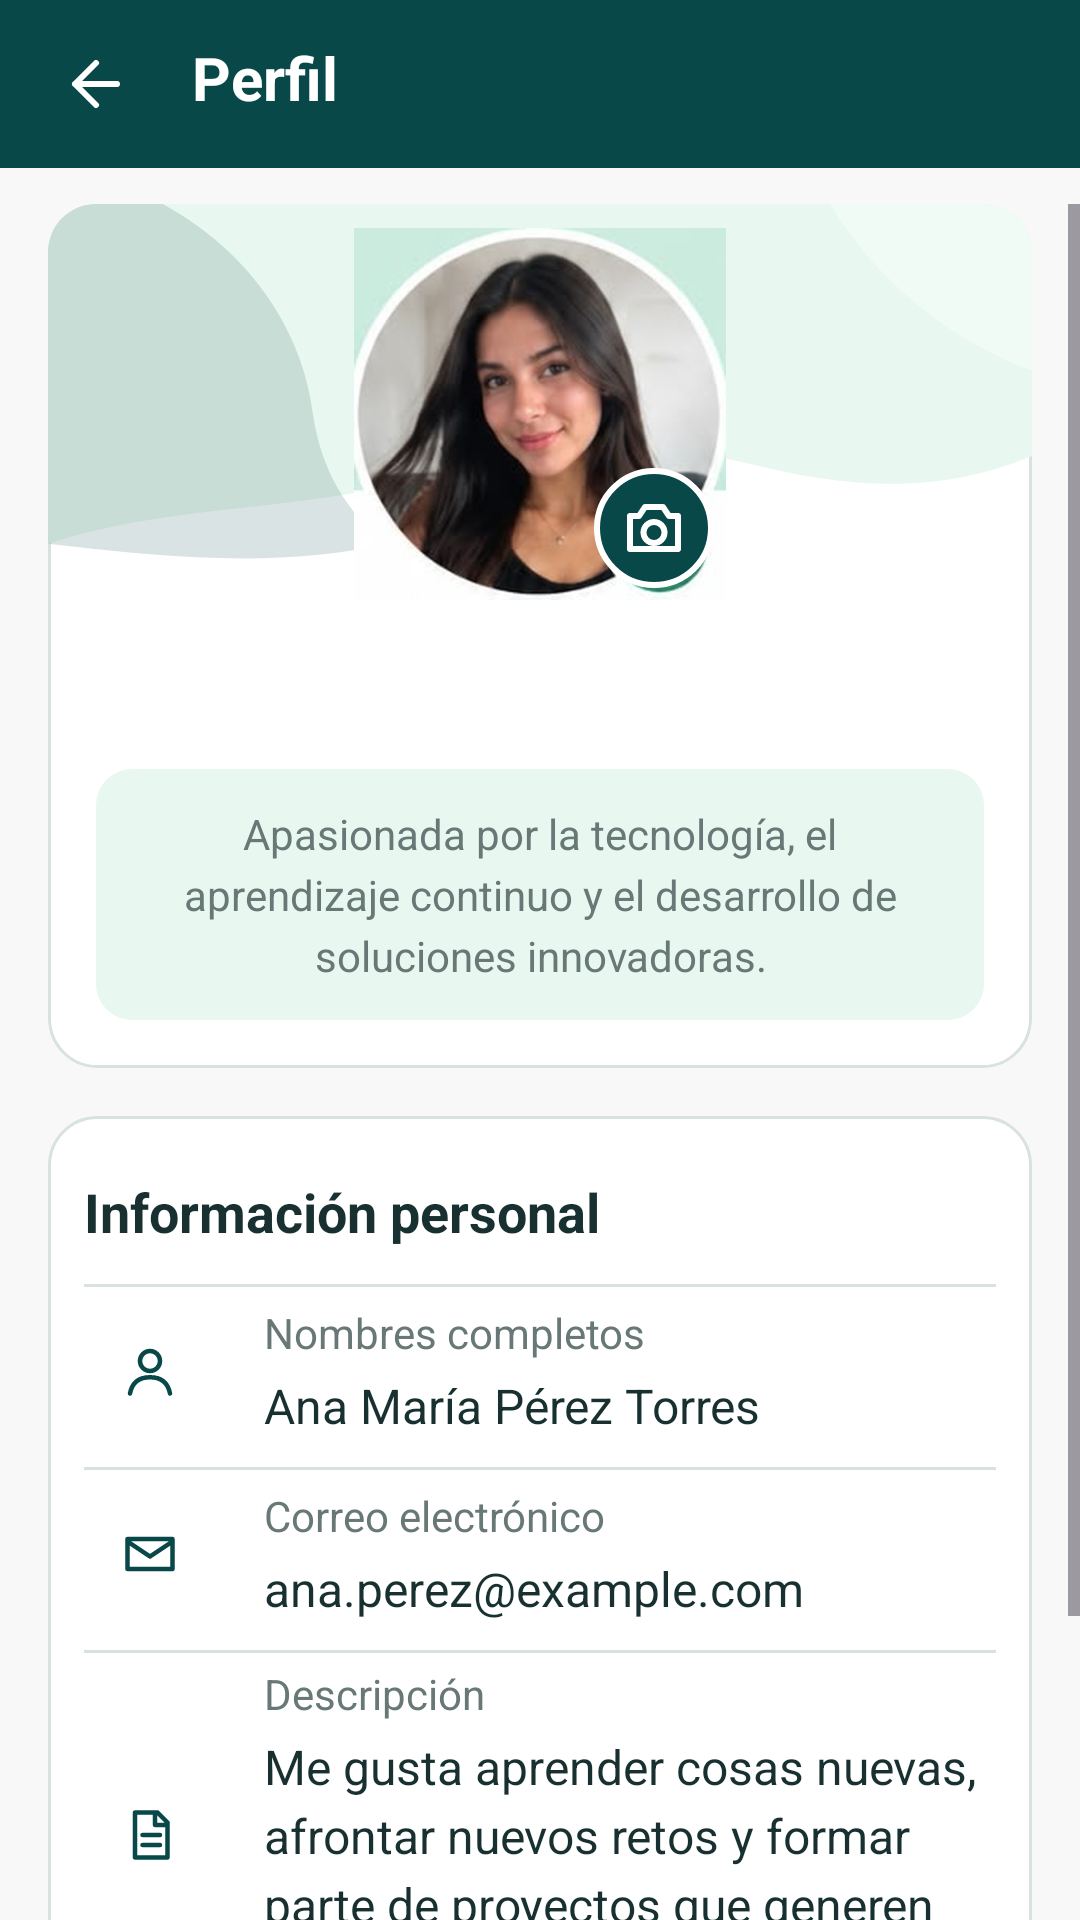

Icon click points for this 1080px×1920px phone screenshot, format [x,y]:
correo perfil: [150,1554]
descripcion perfil: [151,1835]
Ir a Inicio: [96,84]
perfil: [150,1372]
